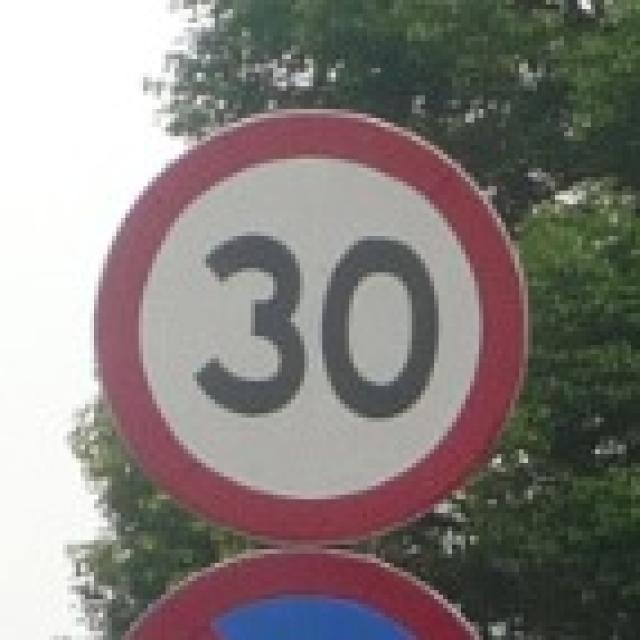Speed Limit -30-: (192, 233, 444, 422)
